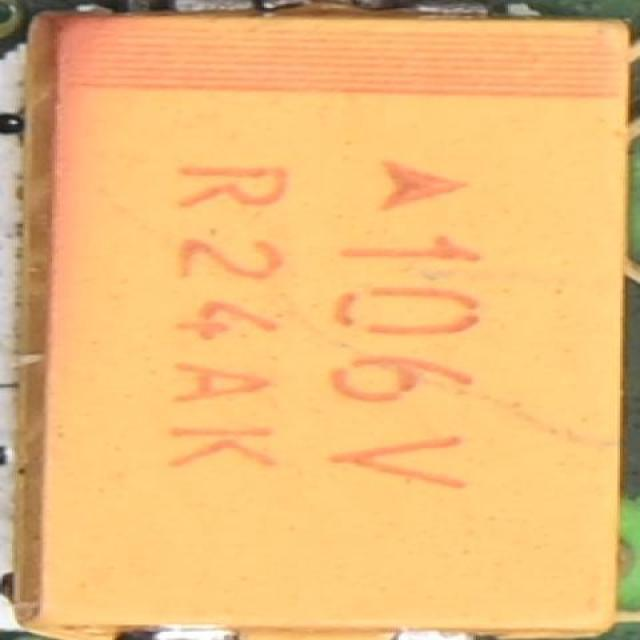Capacitor: (18, 16, 629, 632)
